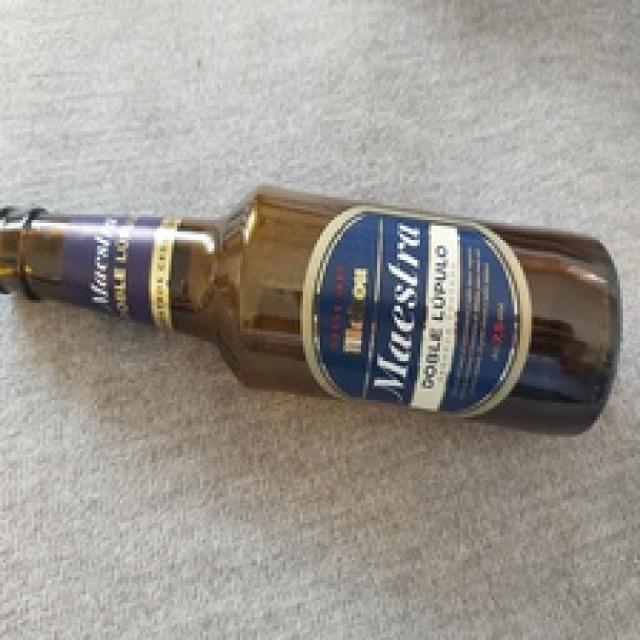glass-bottle: (1, 173, 630, 449)
